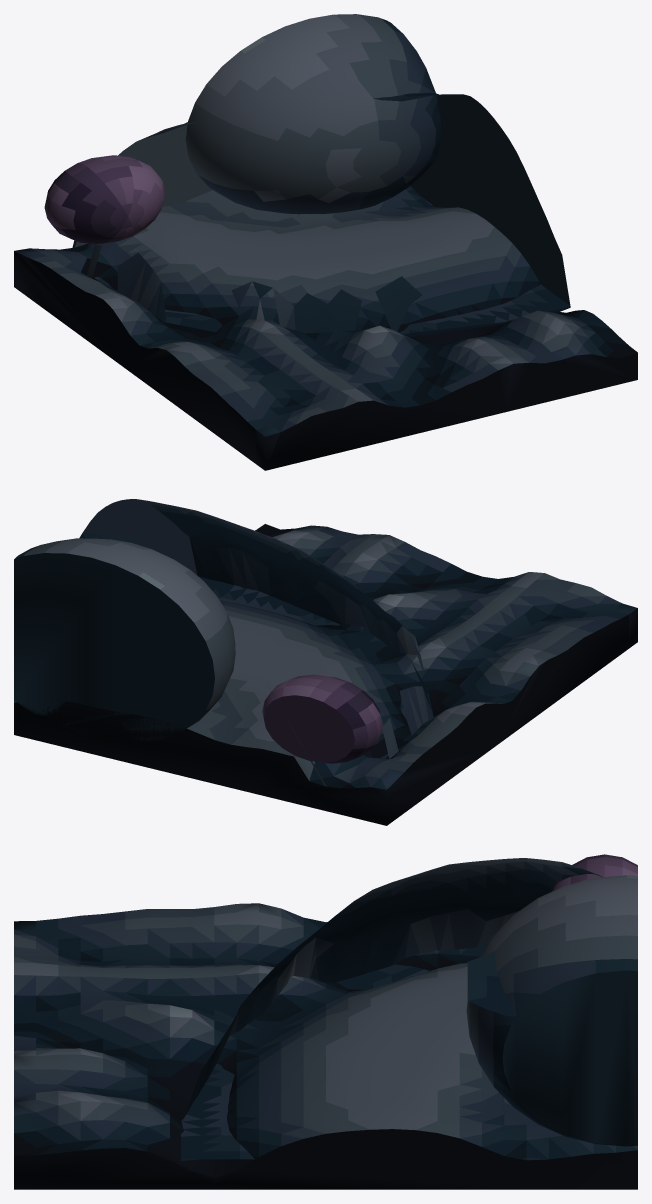
Rendered from gyges_stalk_bl.glb.
3 renders of one model, top to bottom at view 1: azimuth 30°, elevation 25°; view 2: azimuth 150°, elevation 25°; view 3: azimuth 270°, elevation 25°, orthographic. The views are drawn at different scales.
Visible parts, largest first — view 1: gyges_stalk_bl_stalk_wall, gyges_stalk_bl_stalk_bulb, gyges_stalk_bl_stalk_root, gyges_stalk_bl_stalk_tip0; view 2: gyges_stalk_bl_stalk_wall, gyges_stalk_bl_stalk_bulb, gyges_stalk_bl_stalk_root, gyges_stalk_bl_stalk_tip0; view 3: gyges_stalk_bl_stalk_wall, gyges_stalk_bl_stalk_bulb, gyges_stalk_bl_stalk_root, gyges_stalk_bl_stalk_tip0.
Part boxes in pixels (x1,y1,x2,y2): gyges_stalk_bl_stalk_wall: (14,186,637,470); gyges_stalk_bl_stalk_bulb: (185,14,441,214); gyges_stalk_bl_stalk_root: (71,93,570,336); gyges_stalk_bl_stalk_tip0: (44,155,165,244); gyges_stalk_bl_stalk_wall: (14,524,637,825); gyges_stalk_bl_stalk_bulb: (14,538,235,741); gyges_stalk_bl_stalk_root: (14,499,433,786); gyges_stalk_bl_stalk_tip0: (262,674,382,763); gyges_stalk_bl_stalk_wall: (14,903,637,1189); gyges_stalk_bl_stalk_bulb: (466,875,637,1146); gyges_stalk_bl_stalk_root: (181,858,602,1160); gyges_stalk_bl_stalk_tip0: (551,854,637,891).
Bounding box in the file's own units: 23.98 × 12.1 × 27.98.
